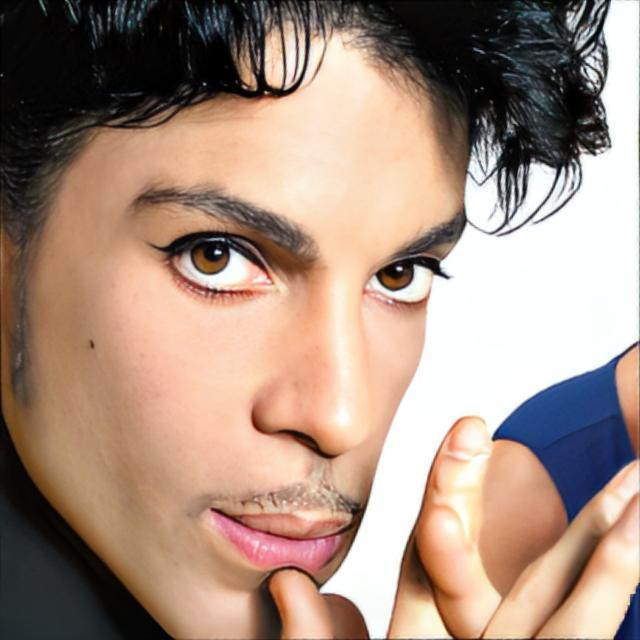anger: (1, 28, 480, 640)
